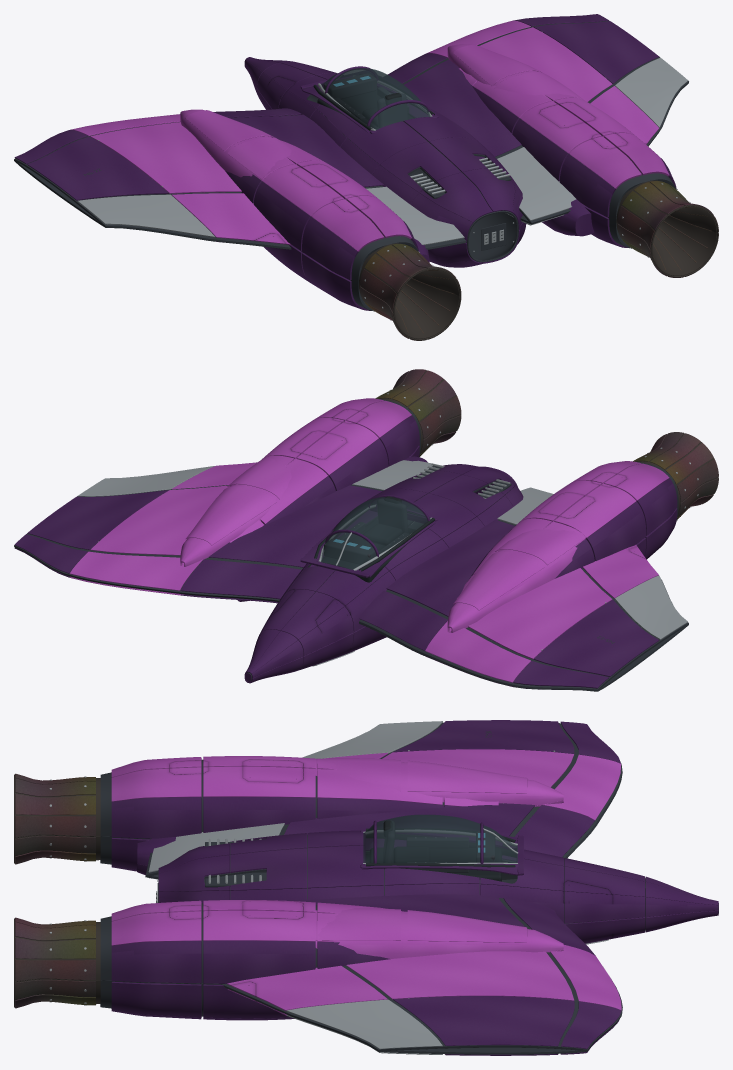
3 renders of one model, top to bottom at view 1: azimuth 30°, elevation 25°; view 2: azimuth 150°, elevation 25°; view 3: azimuth 270°, elevation 25°, orthographic. The views are drawn at different scales.
Visible parts, largest first — view 1: Fitted lifting skin.004, Fitted lifting skin.007, Fitted lifting skin.019, Fitted lifting skin.022, Fitted lifting skin.025, Thin laminated canopy glazing, Recessed convergent nozzle liner.001, Recessed convergent nozzle liner, Fitted lifting skin.005, Fitted lifting skin.008, Fitted lifting skin.001, Fitted lifting skin.020 (+63 smaller); view 2: Fitted lifting skin.004, Fitted lifting skin.019, Fitted lifting skin.007, Fitted lifting skin.022, Fitted lifting skin.001, Thin laminated canopy glazing, Fitted lifting skin.025, Fitted lifting skin.018, Fitted lifting skin.021, Fitted lifting skin.003, Fitted lifting skin, Fairing removable cover.003 (+59 smaller); view 3: Fitted lifting skin.022, Fitted lifting skin.025, Thin laminated canopy glazing, Fitted lifting skin.007, Fitted lifting skin.026, Removable nacelle cowl.040, Fitted lifting skin.023, Fitted lifting skin.001, Fitted lifting skin.004, Removable nacelle cowl.032, Removable nacelle cowl, Removable nacelle cowl.041 (+73 smaller).
Boxes of the visible parts, x1=… form: Fitted lifting skin.004: x1=90, y1=122, x2=241, y2=193; Fitted lifting skin.007: x1=27, y1=136, x2=168, y2=200; Fitted lifting skin.019: x1=392, y1=59, x2=521, y2=159; Fitted lifting skin.022: x1=479, y1=27, x2=612, y2=101; Fitted lifting skin.025: x1=533, y1=21, x2=659, y2=83; Thin laminated canopy glazing: x1=321, y1=68, x2=430, y2=129; Recessed convergent nozzle liner.001: x1=652, y1=206, x2=717, y2=275; Recessed convergent nozzle liner: x1=394, y1=269, x2=459, y2=338; Fitted lifting skin.005: x1=172, y1=193, x2=291, y2=244; Fitted lifting skin.008: x1=77, y1=194, x2=215, y2=237; Fitted lifting skin.001: x1=229, y1=114, x2=383, y2=187; Fitted lifting skin.020: x1=497, y1=147, x2=576, y2=220; Fitted lifting skin.004: x1=468, y1=568, x2=612, y2=659; Fitted lifting skin.019: x1=209, y1=485, x2=381, y2=567; Fitted lifting skin.007: x1=533, y1=599, x2=659, y2=676; Fitted lifting skin.022: x1=90, y1=485, x2=229, y2=555; Fitted lifting skin.001: x1=386, y1=520, x2=514, y2=616; Thin laminated canopy glazing: x1=320, y1=497, x2=430, y2=569; Fitted lifting skin.025: x1=27, y1=490, x2=168, y2=549; Fitted lifting skin.018: x1=180, y1=559, x2=301, y2=599; Fitted lifting skin.021: x1=69, y1=551, x2=203, y2=590; Fitted lifting skin.003: x1=425, y1=621, x2=530, y2=682; Fitted lifting skin: x1=359, y1=591, x2=447, y2=650; Fairing removable cover.003: x1=186, y1=486, x2=276, y2=545; Fitted lifting skin.022: x1=346, y1=951, x2=574, y2=1000; Fitted lifting skin.025: x1=393, y1=996, x2=574, y2=1046; Thin laminated canopy glazing: x1=363, y1=814, x2=517, y2=863; Fitted lifting skin.007: x1=393, y1=720, x2=574, y2=753; Fitted lifting skin.026: x1=286, y1=999, x2=442, y2=1049; Removable nacelle cowl.040: x1=203, y1=940, x2=315, y2=983; Fitted lifting skin.023: x1=227, y1=965, x2=387, y2=1010; Fitted lifting skin.001: x1=284, y1=803, x2=534, y2=850; Fitted lifting skin.004: x1=382, y1=749, x2=574, y2=787; Removable nacelle cowl.032: x1=111, y1=941, x2=201, y2=983; Removable nacelle cowl: x1=111, y1=797, x2=201, y2=838; Removable nacelle cowl.041: x1=203, y1=910, x2=315, y2=941.
Bounding box in the file's own units: 3.58 × 0.7099 × 3.27.
9 materials, 3 textured.
